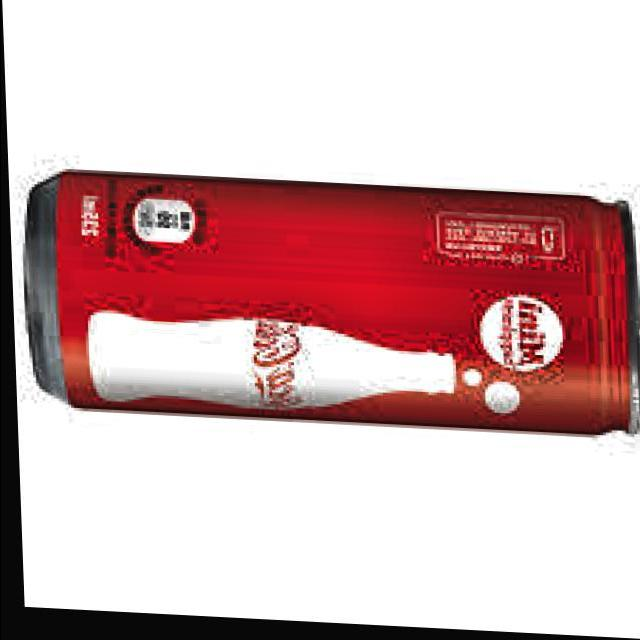Aluminum Can: (5, 161, 640, 446)
